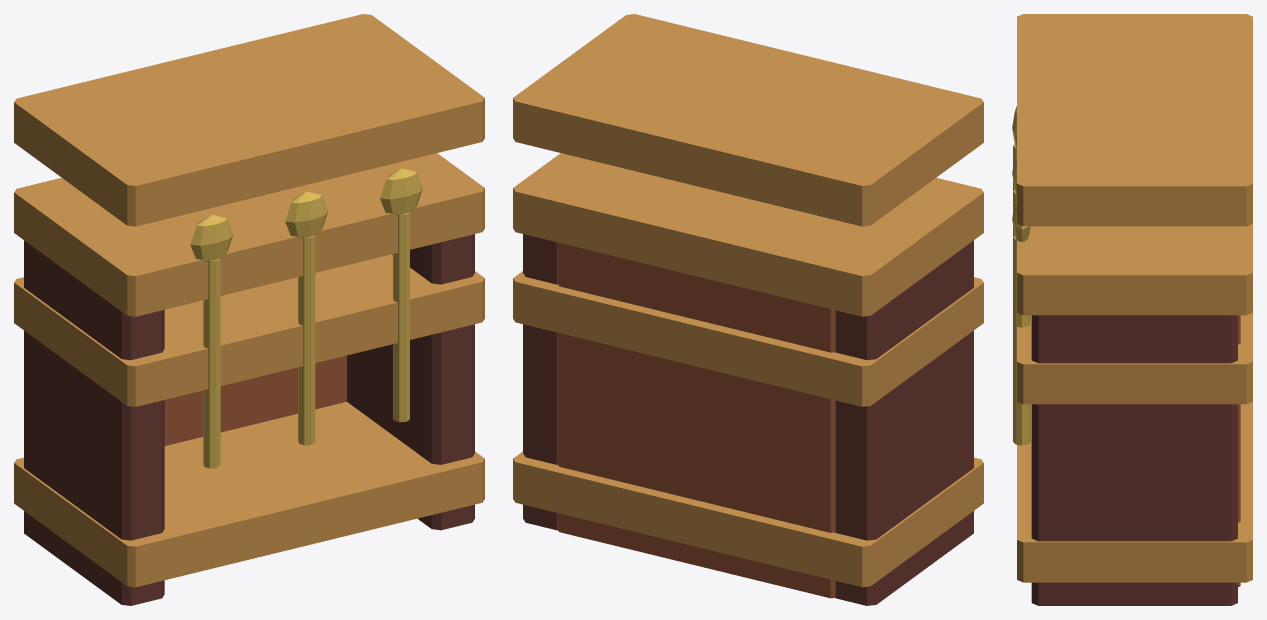
The model's file is KeyBoard.fbx.
3 renders of one model, left to right at view 1: azimuth 30°, elevation 25°; view 2: azimuth 150°, elevation 25°; view 3: azimuth 270°, elevation 25°, orthographic.
Visible parts, largest first — view 1: KeyBoard.005; view 2: KeyBoard.005; view 3: KeyBoard.005.
Part boxes in pixels (box(x1,y1,x2,y2)): KeyBoard.005: box(14, 14, 484, 605); KeyBoard.005: box(513, 14, 983, 605); KeyBoard.005: box(1012, 14, 1252, 605).
Size of the model in its own units: 83 by 94.5 by 49.
